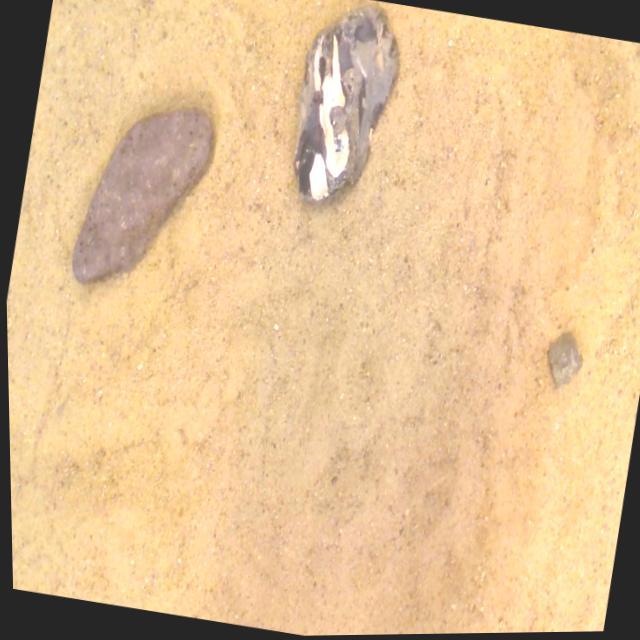rock: (70, 107, 211, 281), (292, 6, 398, 200), (545, 333, 579, 387)
